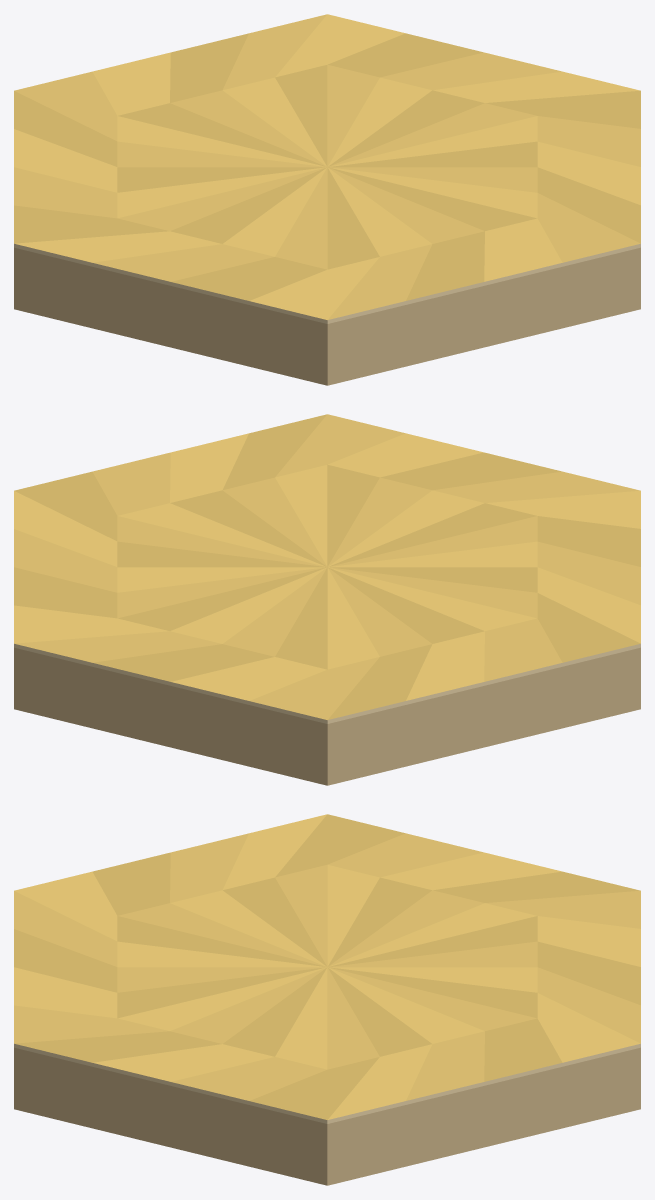
Rendered from terrain.glb.
The picture shows the model from 3 angles, top to bottom: view 1: azimuth 30°, elevation 25°; view 2: azimuth 150°, elevation 25°; view 3: azimuth 270°, elevation 25°; orthographic projection.
Visible parts, largest first — view 1: Tile_巨龙之地; view 2: Tile_巨龙之地; view 3: Tile_巨龙之地.
Boxes of the visible parts, left/top/right/bottom form: Tile_巨龙之地: left=14, top=14, right=640, bottom=385; Tile_巨龙之地: left=14, top=414, right=640, bottom=785; Tile_巨龙之地: left=14, top=814, right=640, bottom=1185.
Bounding box in the file's own units: 2 × 0.2 × 1.73.
